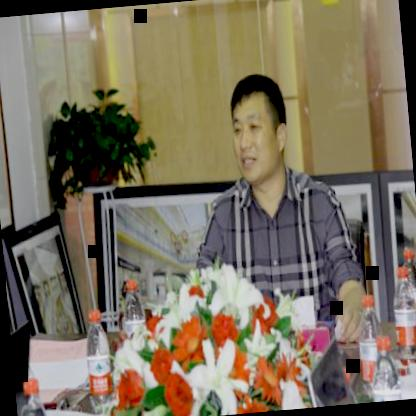head: (223, 62, 292, 190)
